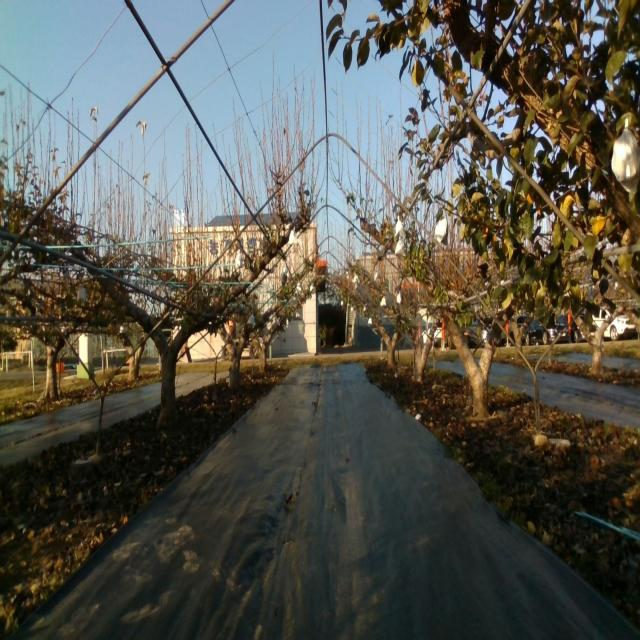pearbags: (612, 121, 640, 199), (436, 216, 449, 244)
